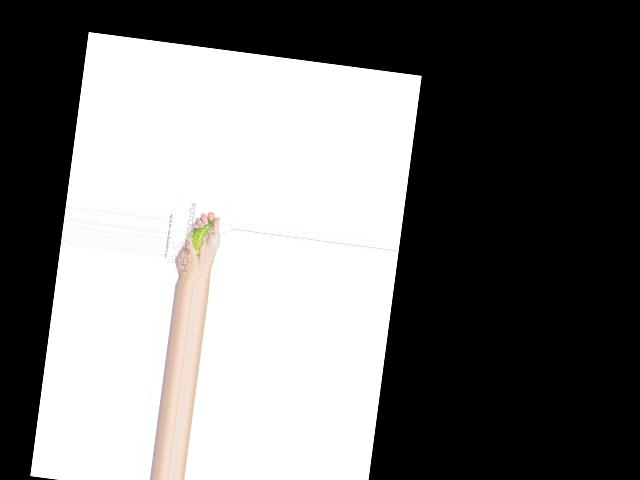cucumber: (188, 217, 213, 258)
